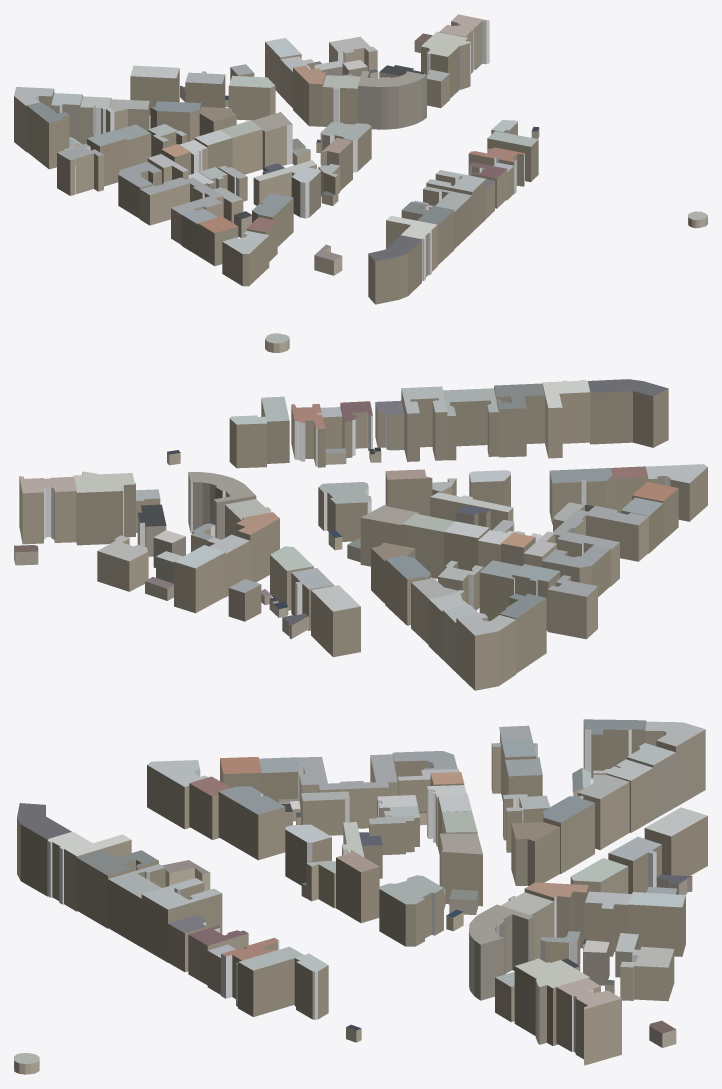
3 renders of one model, top to bottom at view 1: azimuth 30°, elevation 25°; view 2: azimuth 150°, elevation 25°; view 3: azimuth 270°, elevation 25°, orthographic. The views are drawn at different scales.
Parts seen in each view (by area): view 1: tuile; view 2: tuile; view 3: tuile.
Boxes of the visible parts, left/top/right/bottom form: tuile: left=14, top=14, right=707, bottom=304; tuile: left=14, top=333, right=707, bottom=690; tuile: left=14, top=719, right=707, bottom=1074.
Bounding box in the file's own units: 256 × 34.9 × 255.
